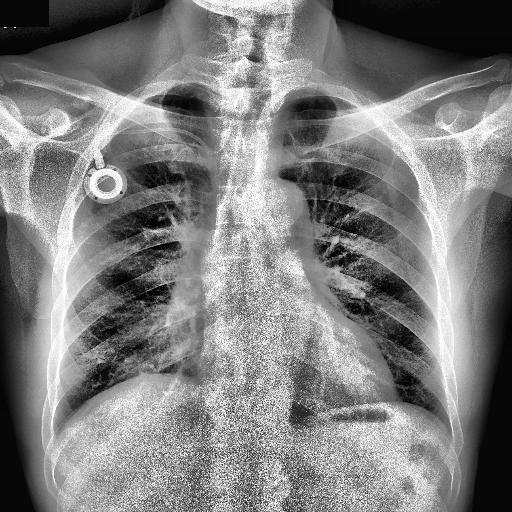0- Aortic enlargement: (252, 182, 312, 256), (248, 178, 306, 232), (252, 173, 310, 226)
3- Cardiomegaly: (194, 340, 402, 412)
